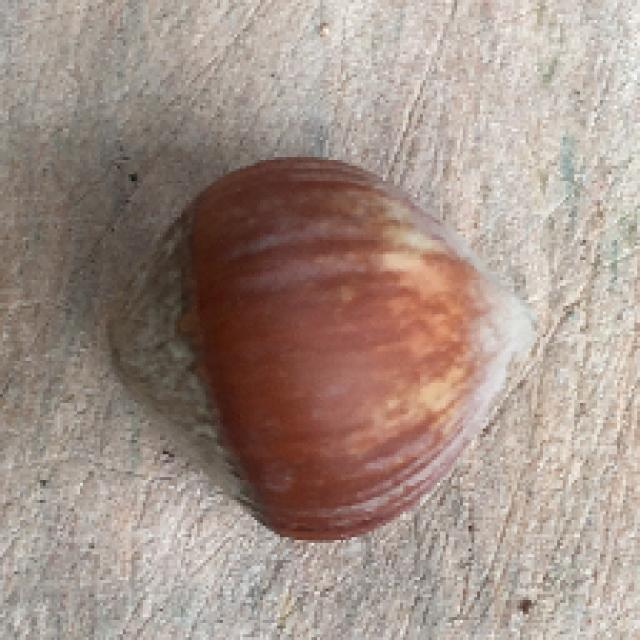qualityHazelnut: (107, 154, 530, 543)
